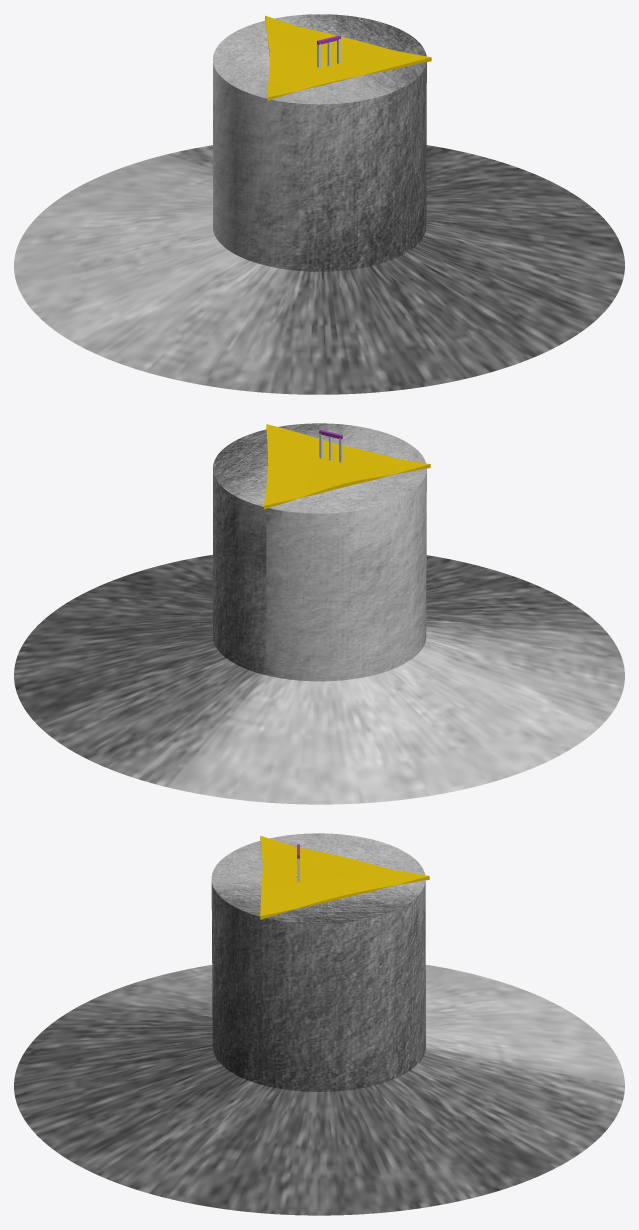
File: apollo16.glb
3 views of the same model, one above another, from view 1: azimuth 30°, elevation 25°; view 2: azimuth 150°, elevation 25°; view 3: azimuth 270°, elevation 25° (orthographic).
Visible parts, largest first — view 1: Cylinder, Circle.003; view 2: Cylinder, Circle.003; view 3: Cylinder, Circle.003.
Part boxes in pixels (x1,y1,x2,y2): Cylinder: [14, 14, 624, 394]; Circle.003: [265, 15, 431, 101]; Cylinder: [14, 423, 624, 804]; Circle.003: [264, 424, 430, 509]; Cylinder: [14, 833, 624, 1215]; Circle.003: [260, 836, 429, 919].
Bounding box in the file's own units: 11.1 × 4.71 × 11.07.
4 materials, 1 textured.
